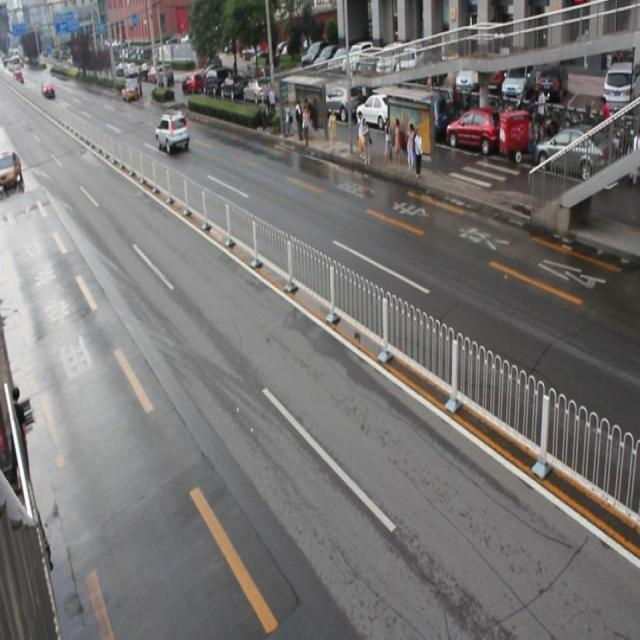car: (155, 111, 189, 153)
